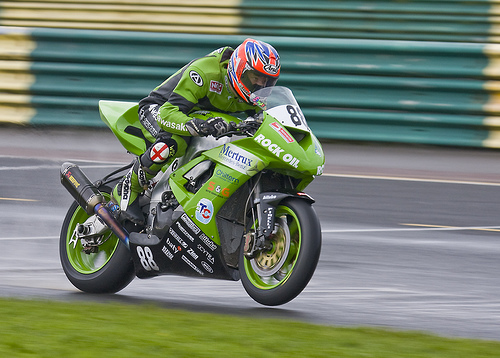helmet: (230, 35, 280, 106)
